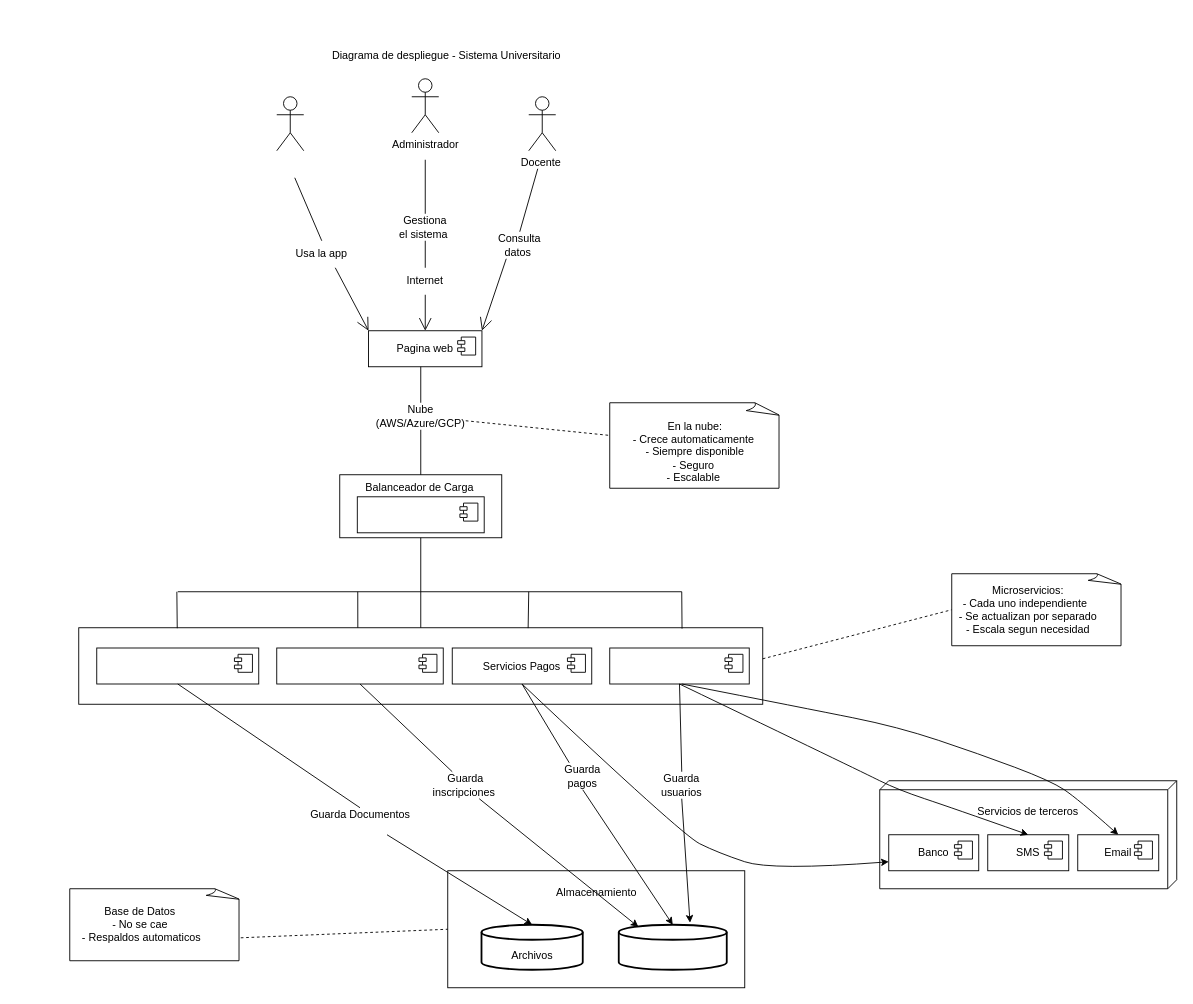
This 1193x1004 diagram has some shape labels left out. Here are the shapes that lost their labels. From the top down, the centre of each, then its label:
At (290,123): "Estudiante".
At (420,514): "Balanceador".
At (177,665): "Servicios Documentos".
At (359,665): "Servicios Inscripciones".
At (679,665): "Servicios Login".
At (672,946): "Base de Datos".
